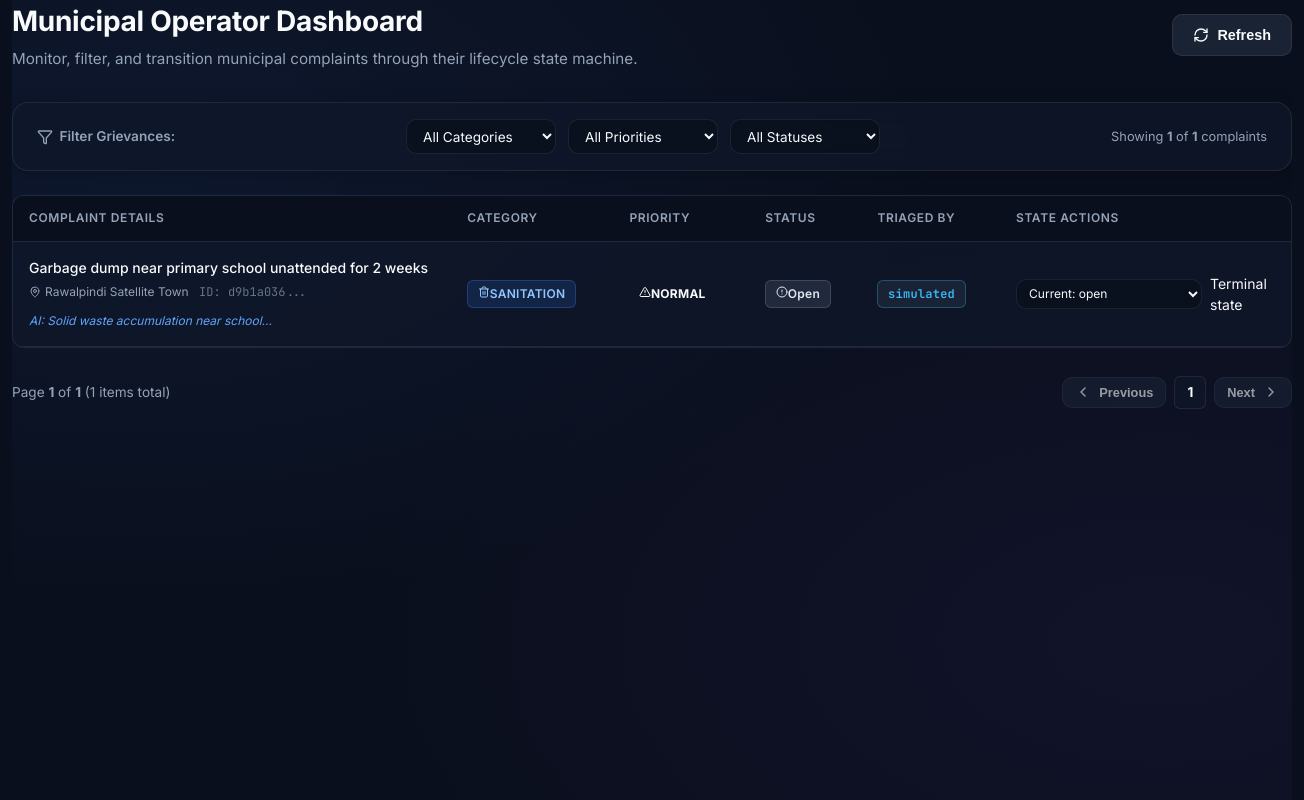
it: DashboardView 409 Conflict Error Surfacing › surfaces server 409 detail message verbatim when invalid status transition is rejected
The width and height of the screenshot is (1304, 800).
Expected: the text "Garbage dump near primary school unattended for 2 weeks" is shown, [29,258,435,278]
Select "→ resolved" in the dropdown named "Change status for complaint d9b1a036-7c98-4c12-92ec-99b35b6a" at (1109, 294), box [1016,279,1202,309]
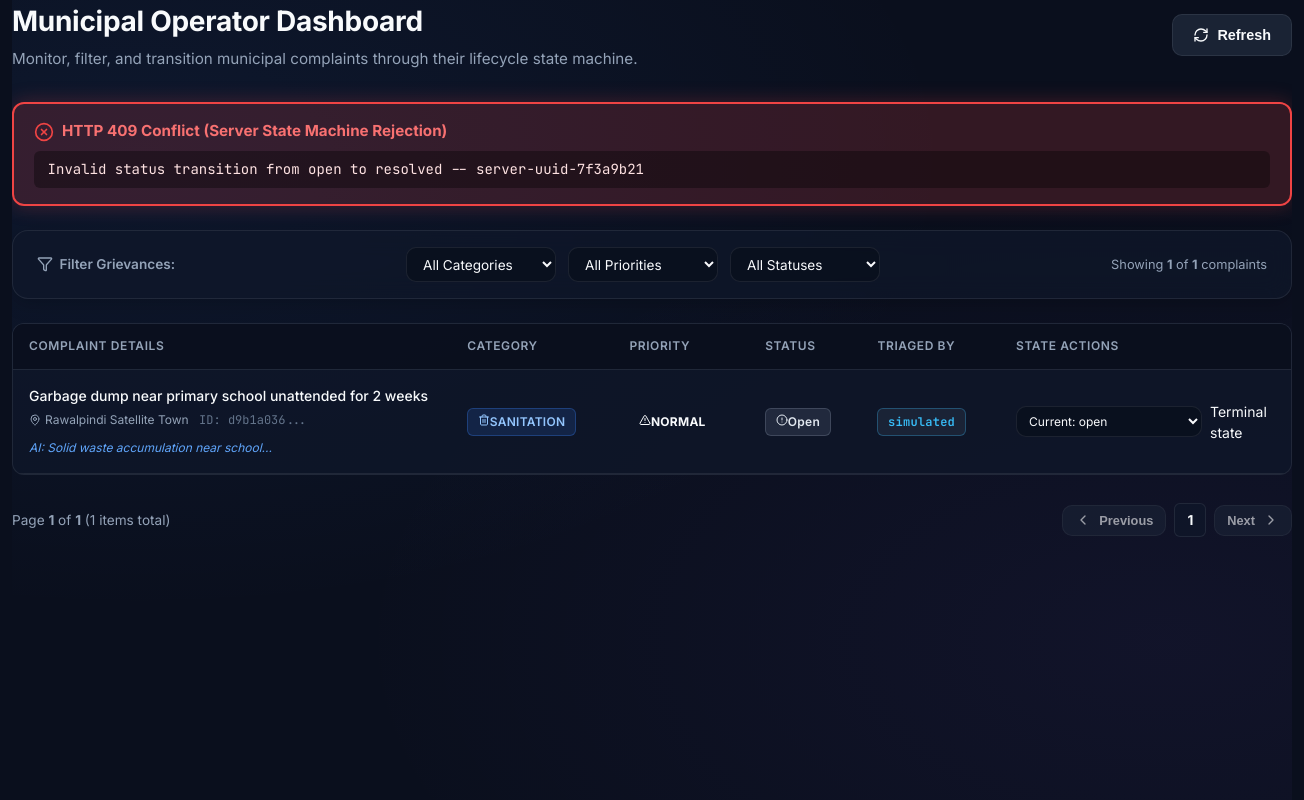
Now the text "Invalid status transition from open to resolved -- server-uuid-7f3a9b21" is shown, box [34,151,1270,188]
Now the message with id "server-conflict-alert" is shown, box [12,102,1292,206]
